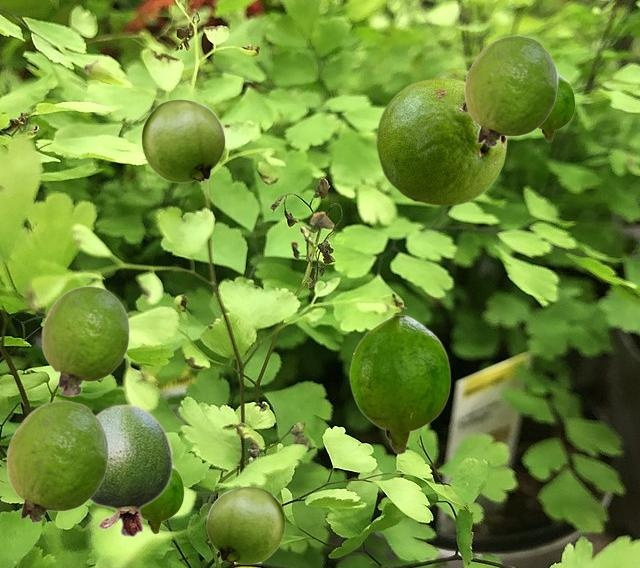guava: (376, 77, 506, 205), (349, 314, 450, 454), (6, 400, 108, 522), (89, 403, 173, 537), (464, 35, 557, 146), (41, 285, 129, 396), (141, 99, 224, 182), (206, 486, 284, 563), (142, 466, 183, 533), (538, 73, 574, 141), (433, 68, 467, 79)
